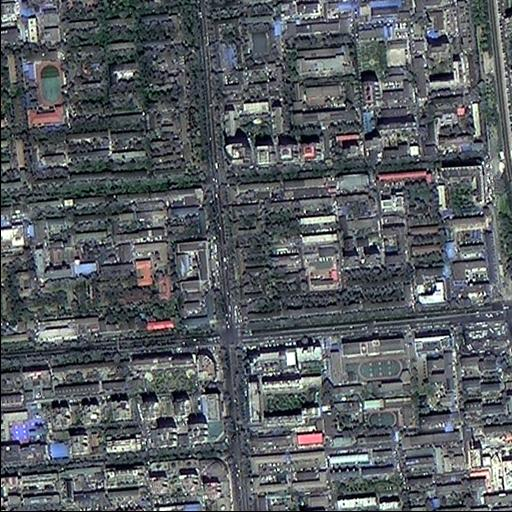school: (21, 43, 69, 129), (340, 329, 410, 385), (364, 396, 416, 432), (33, 239, 75, 280), (406, 180, 441, 218)
